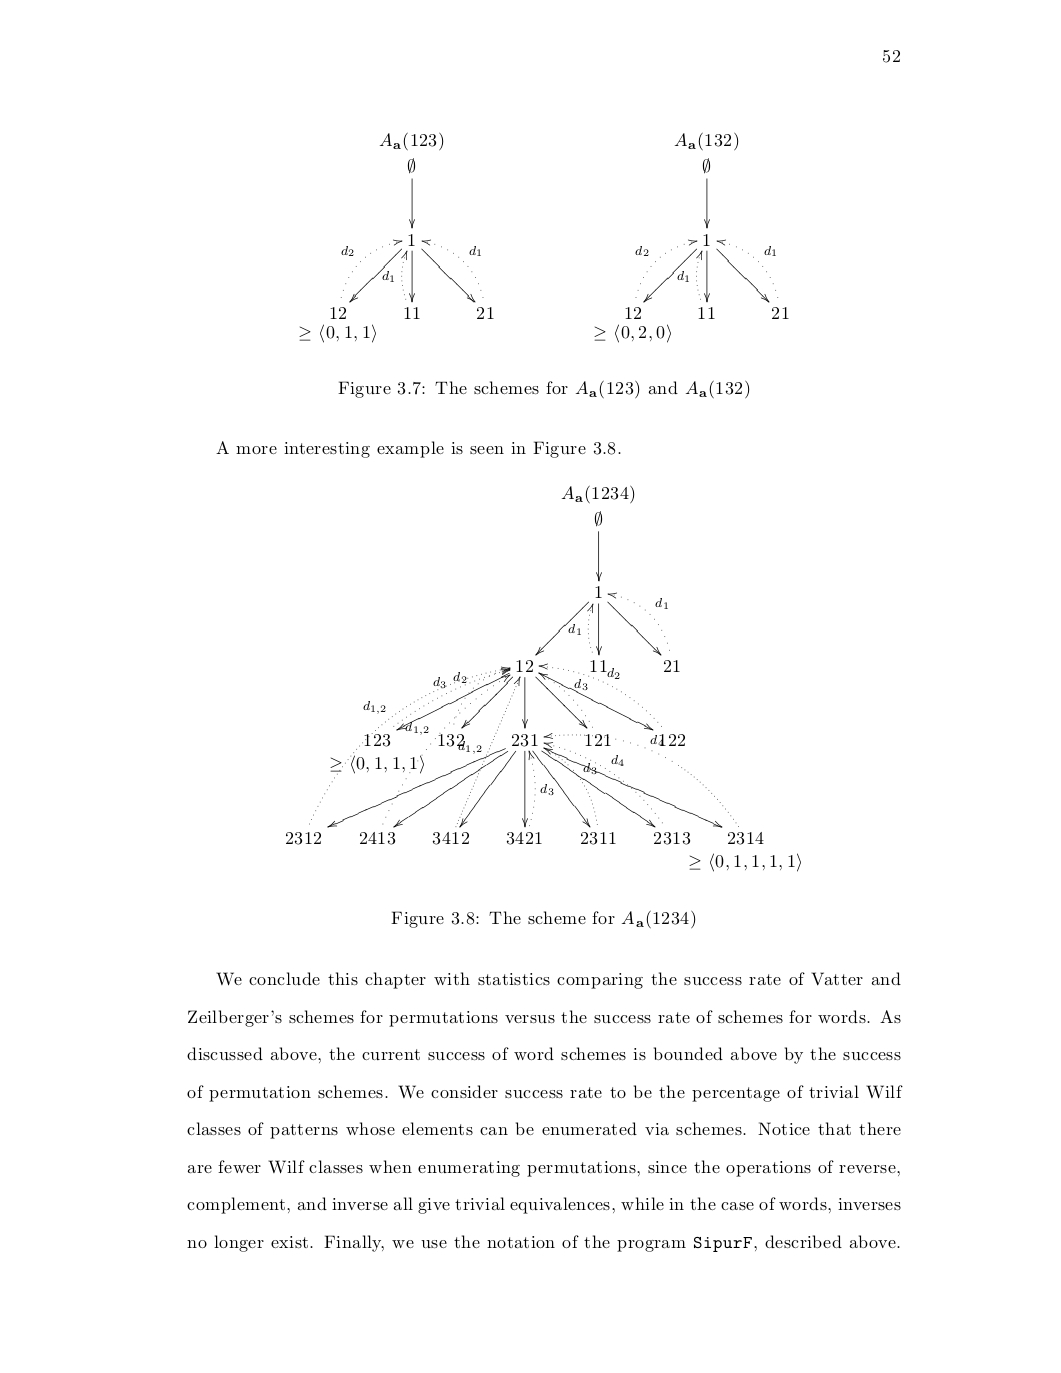figure: (286, 485, 800, 871), (299, 132, 493, 342), (594, 132, 788, 342)
